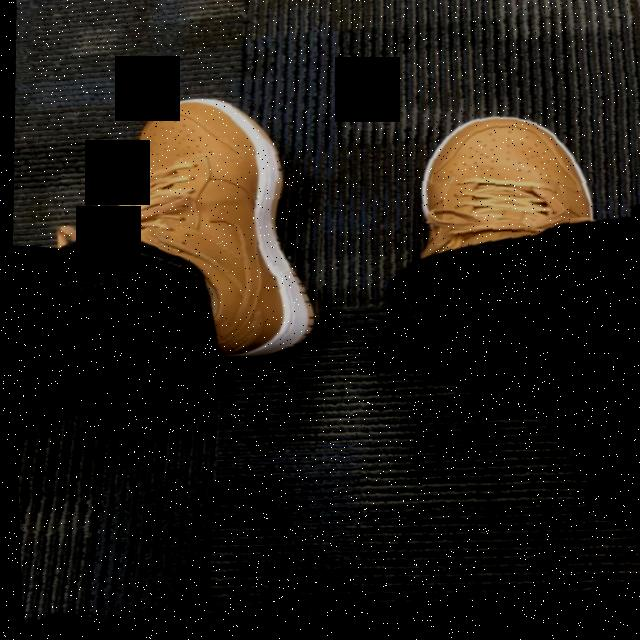shoe: (48, 74, 335, 380), (397, 93, 640, 402)
